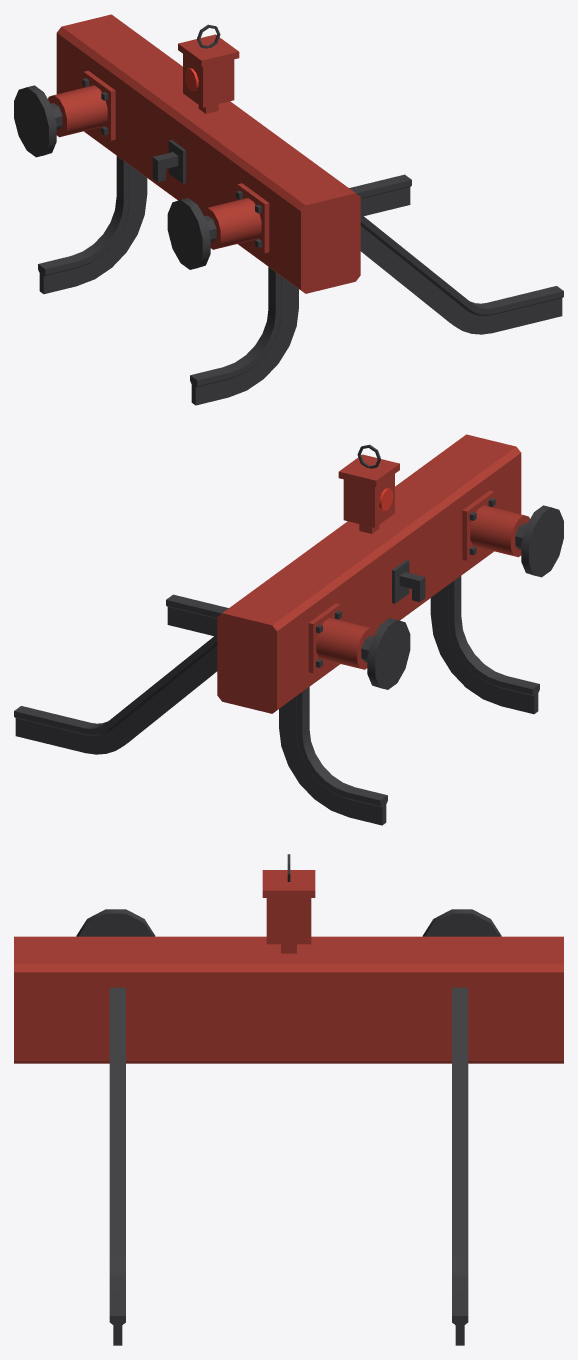
The model's file is rail_buffer_stop.glb.
3 renders of one model, top to bottom at view 1: azimuth 30°, elevation 25°; view 2: azimuth 150°, elevation 25°; view 3: azimuth 270°, elevation 25°, orthographic. The views are drawn at different scales.
Visible parts, largest first — view 1: rail_buffer_stop_lod0; view 2: rail_buffer_stop_lod0; view 3: rail_buffer_stop_lod0.
Part boxes in pixels (left/top/right/bottom): rail_buffer_stop_lod0: left=14, top=14, right=563, bottom=405; rail_buffer_stop_lod0: left=14, top=434, right=563, bottom=825; rail_buffer_stop_lod0: left=14, top=854, right=563, bottom=1345.
Size of what is drawn, in the model's own units: 2.4 by 1.84 by 2.7.
